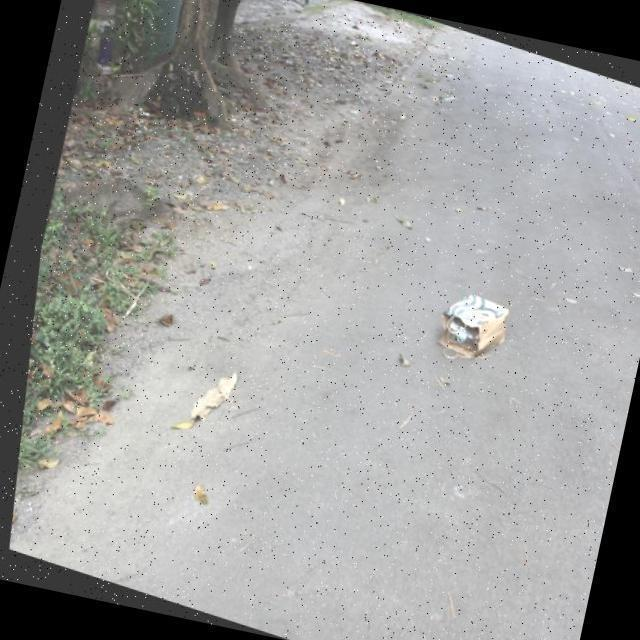Paper_Bag: (419, 282, 512, 374)
